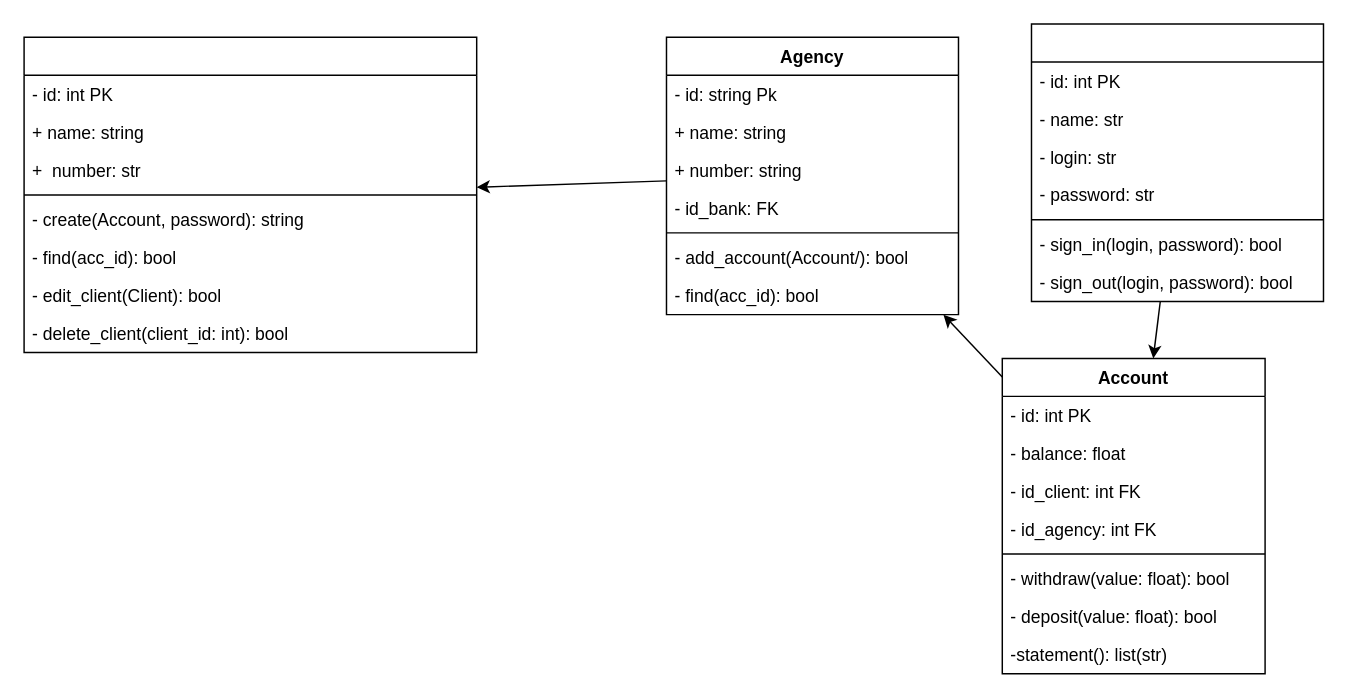
Some shapes in this 1348 by 698 pixel diagram are drawn without their labels. The box of each missing label's shape, as (x1, y1, x2, y2) in pixels:
Bank: (23, 36, 477, 353)
Client: (1030, 23, 1323, 301)
